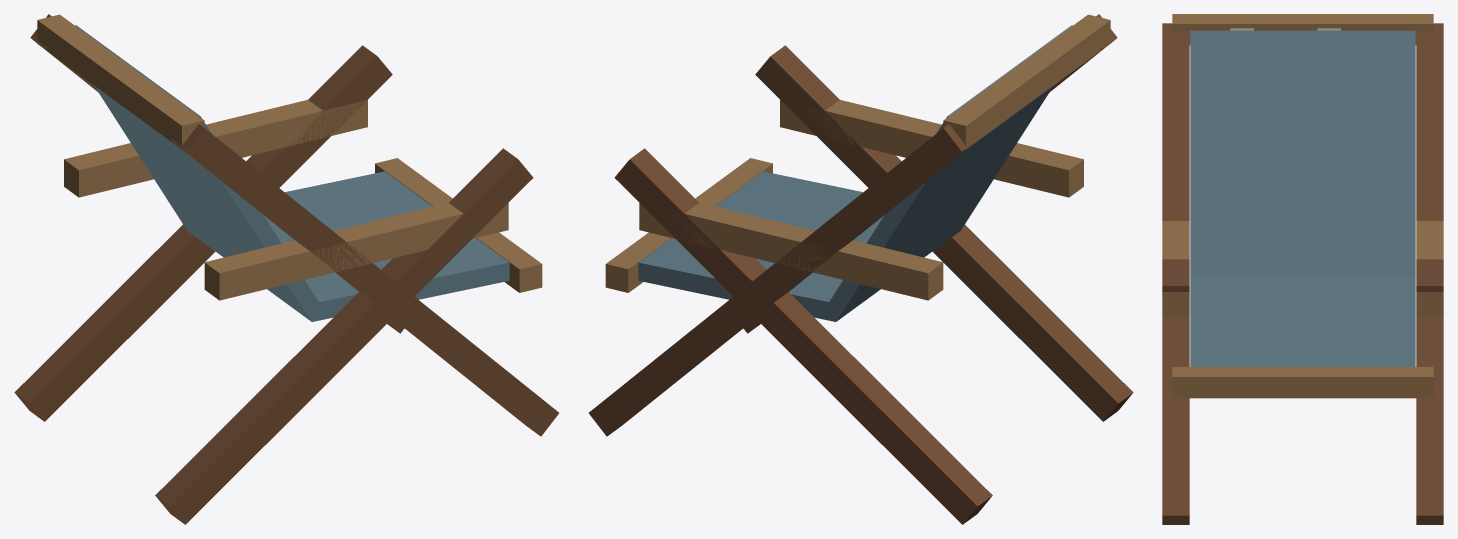
Rendered from Prop_Daily_DeckChair_001.glb.
3 renders of one model, left to right at view 1: azimuth 30°, elevation 25°; view 2: azimuth 150°, elevation 25°; view 3: azimuth 270°, elevation 25°, orthographic. The views are drawn at different scales.
Parts seen in each view (by area): view 1: Prop_Daily_DeckChair_001; view 2: Prop_Daily_DeckChair_001; view 3: Prop_Daily_DeckChair_001.
Boxes of the visible parts, x1,y1,x2,y2 form: Prop_Daily_DeckChair_001: (14,14,558,524); Prop_Daily_DeckChair_001: (589,14,1133,524); Prop_Daily_DeckChair_001: (1162,14,1443,524).
Size of the model in its own units: 1.12 by 1.08 by 0.775.
